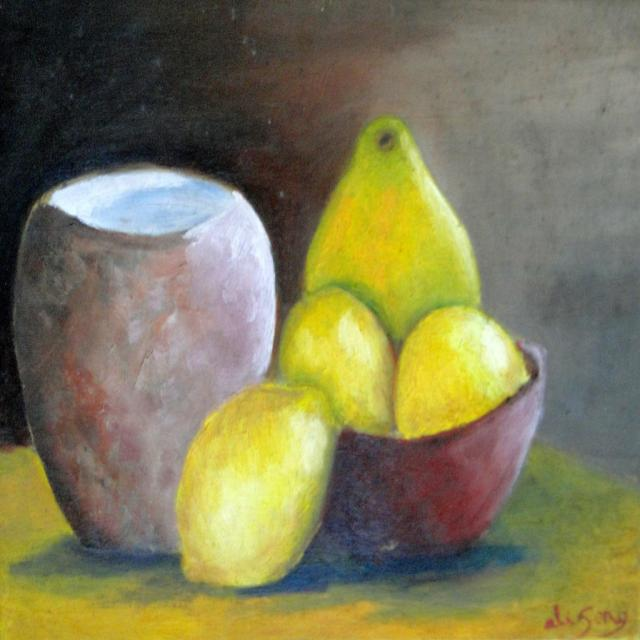pear: (304, 112, 477, 351), (174, 381, 340, 587), (273, 283, 398, 435), (393, 306, 533, 437)
